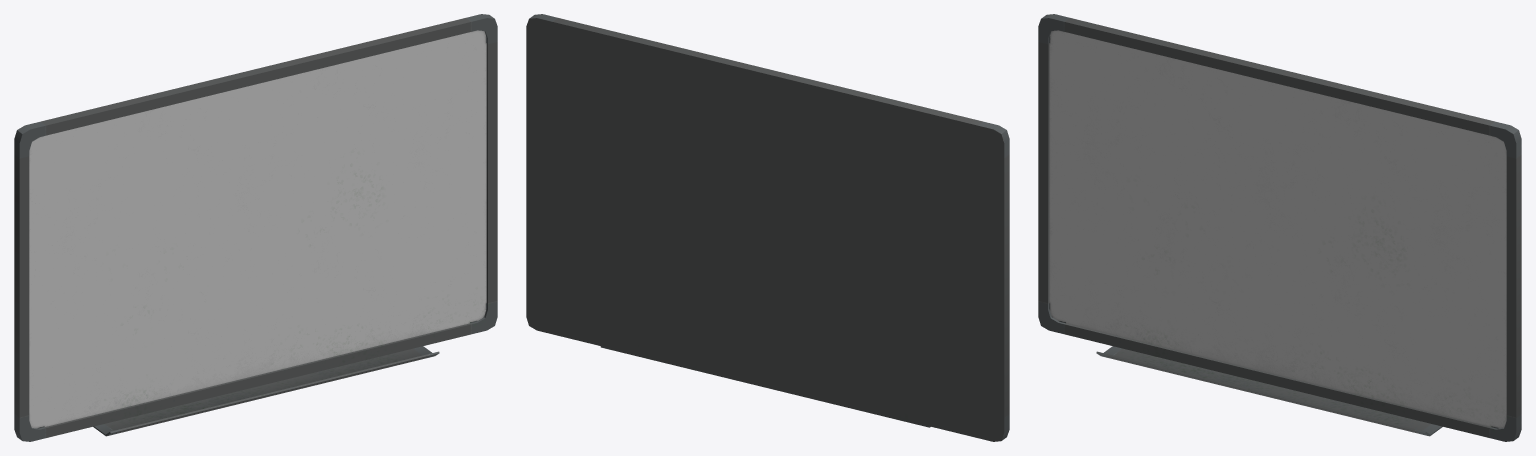
File: Whiteboard.FBX
The picture shows the model from 3 angles, left to right: view 1: azimuth 30°, elevation 25°; view 2: azimuth 150°, elevation 25°; view 3: azimuth 330°, elevation 25°; orthographic projection.
Parts seen in each view (by area): view 1: Whiteboard; view 2: Whiteboard; view 3: Whiteboard.
Part boxes in pixels (x1,y1,x2,y2): Whiteboard: (14,14,497,441); Whiteboard: (526,14,1009,441); Whiteboard: (1038,14,1521,441).
Bounding box in the file's own units: 39.37 × 24.71 × 3.13.
